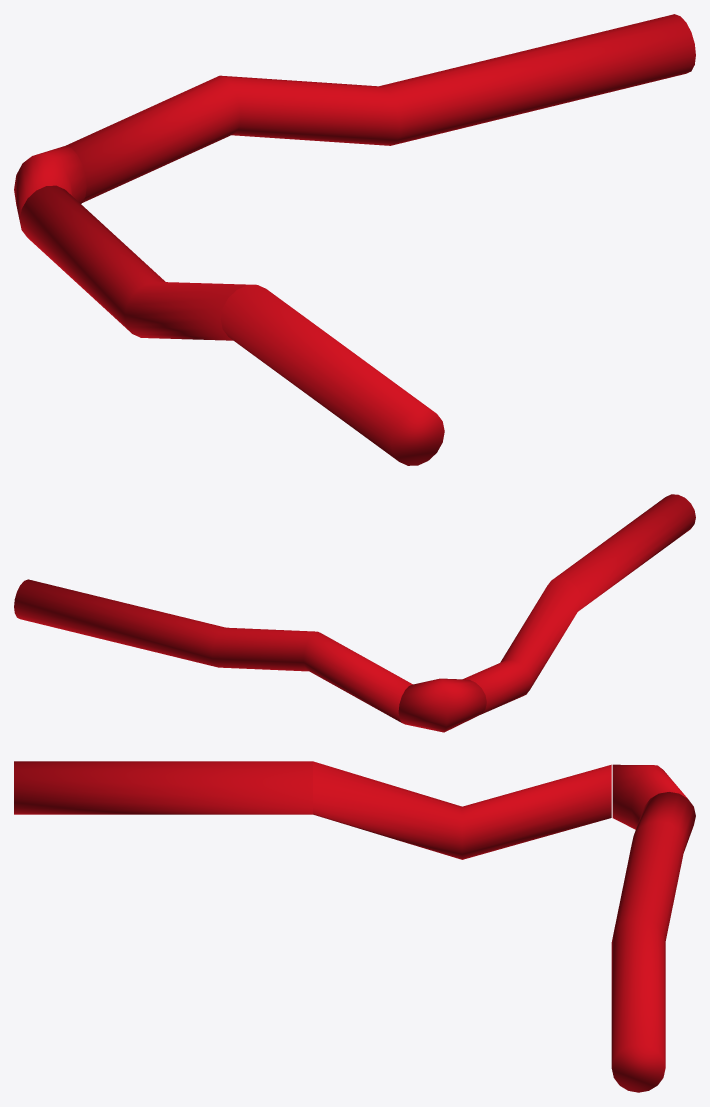
The model's file is cable1.glb.
3 views of the same model, one above another, from view 1: azimuth 30°, elevation 25°; view 2: azimuth 150°, elevation 25°; view 3: azimuth 270°, elevation 25° (orthographic). The views are drawn at different scales.
Visible parts, largest first — view 1: cable1; view 2: cable1; view 3: cable1.
Boxes of the visible parts, x1=… form: cable1: x1=14, y1=14, x2=695, y2=465; cable1: x1=14, y1=494, x2=695, y2=732; cable1: x1=14, y1=761, x2=695, y2=1092.
Bounding box in the file's own units: 2.29 × 0.427 × 2.28.
